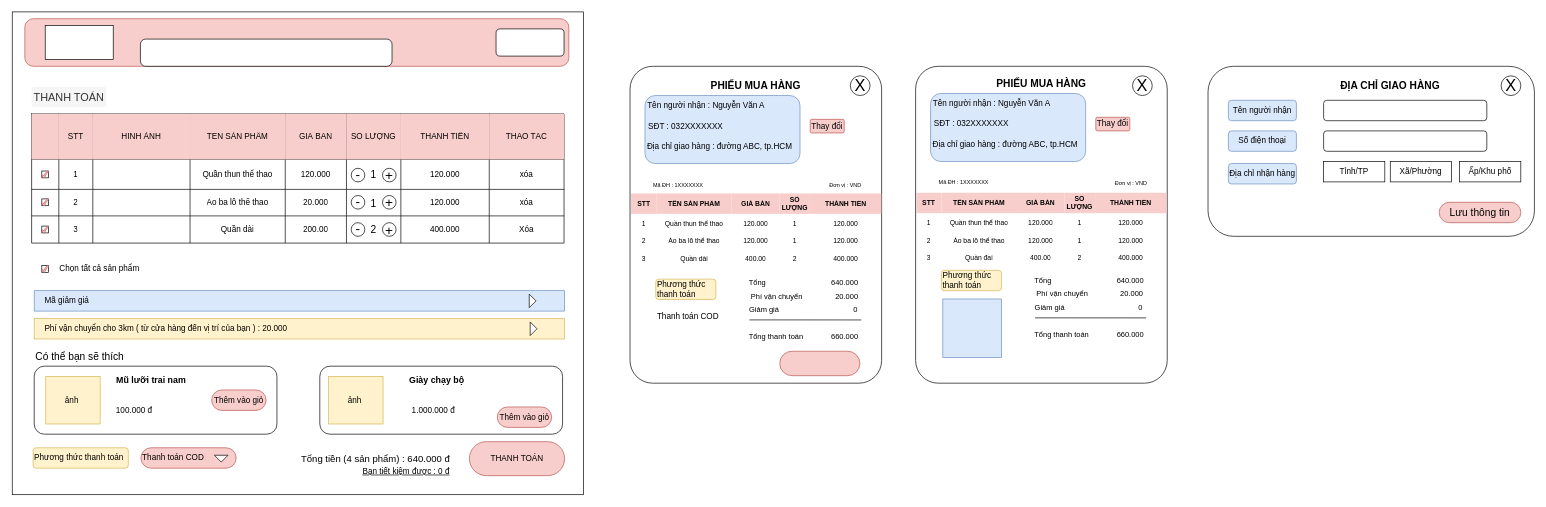
Some shapes in this 1546 by 507 pixel diagram are drawn without their labels. Here are the shapes that lost their labels. From the top down, the centre of each, then its label:
At pixel 79 42: "LOGO".
At pixel 266 52: "NAVBAR".
At pixel 529 42: "TÀI KHOẢN".
At pixel 971 328: "QR thanh toán".
At pixel 819 363: "Xác nhận đơn hàng".
